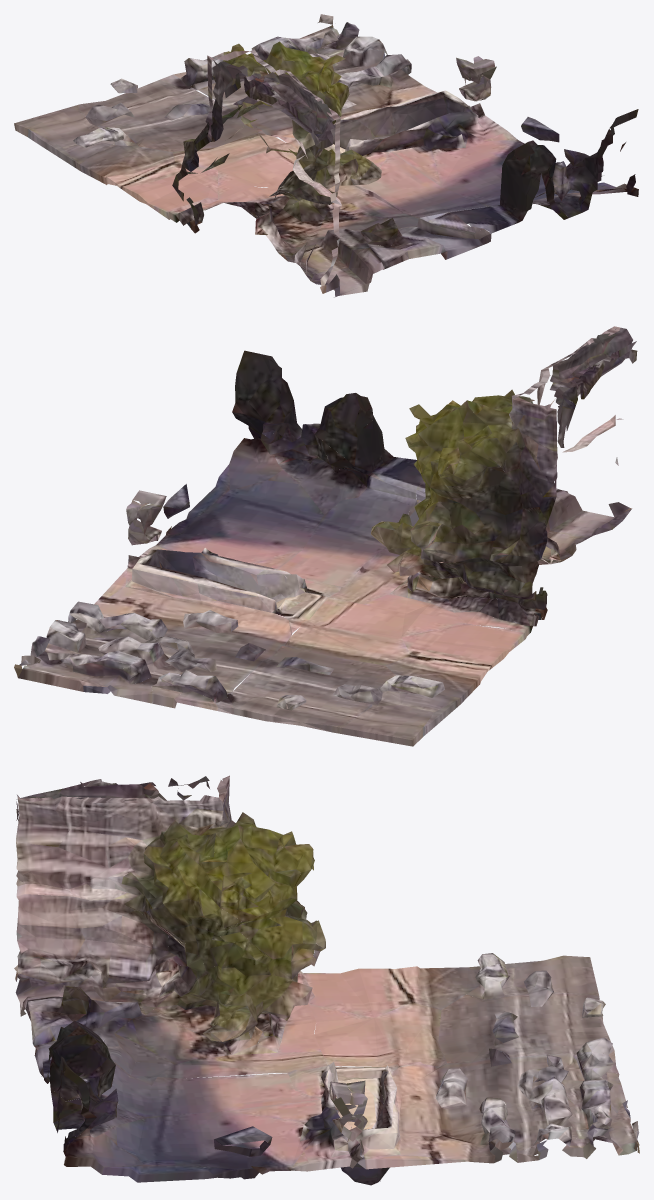
3 renders of one model, top to bottom at view 1: azimuth 30°, elevation 25°; view 2: azimuth 150°, elevation 25°; view 3: azimuth 270°, elevation 25°, orthographic. The views are drawn at different scales.
Parts seen in each view (by area): view 1: Mesh_0; view 2: Mesh_0; view 3: Mesh_0.
Boxes of the visible parts, left/top/right/bottom form: Mesh_0: left=14, top=14, right=638, bottom=297; Mesh_0: left=14, top=326, right=637, bottom=746; Mesh_0: left=14, top=775, right=639, bottom=1185.
Size of the model in its own units: 33.33 by 18.66 by 41.49.
Materials: 2 (2 with a texture image).
